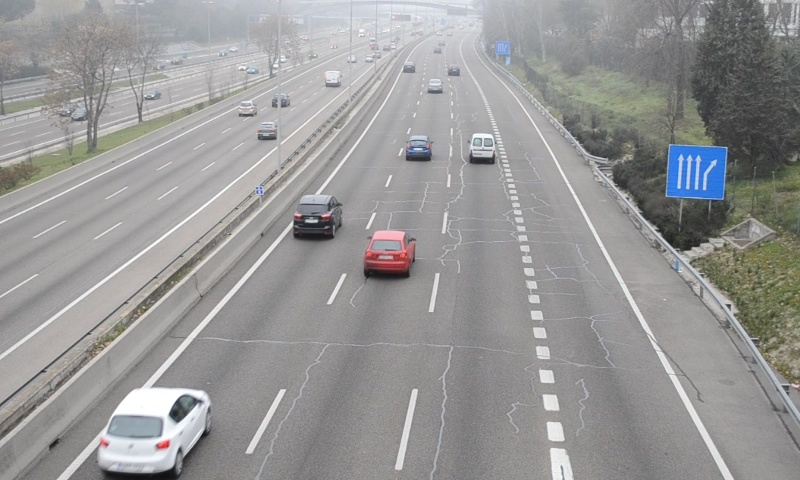car: (96, 388, 210, 474), (364, 230, 416, 274), (291, 195, 341, 237), (405, 136, 431, 162), (427, 78, 444, 94)
van: (468, 134, 496, 164)
